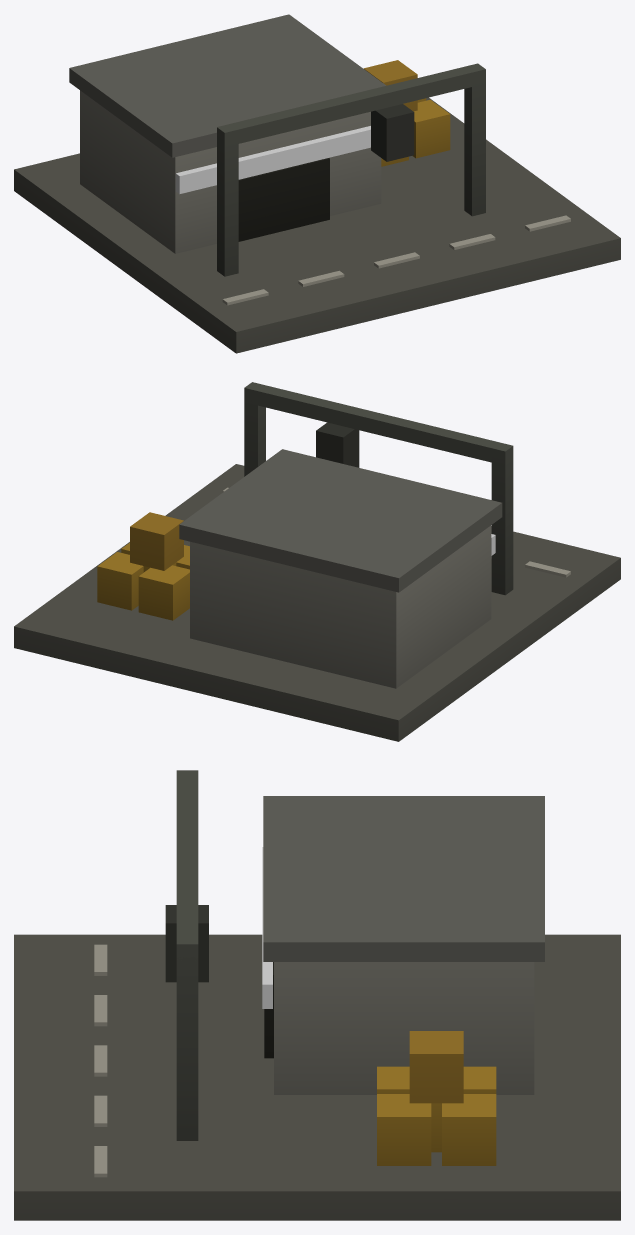
The model's file is m_depot_1adcab18.glb.
3 views of the same model, one above another, from view 1: azimuth 30°, elevation 25°; view 2: azimuth 150°, elevation 25°; view 3: azimuth 270°, elevation 25° (orthographic). The views are drawn at different scales.
Visible parts, largest first — view 1: mesh; view 2: mesh; view 3: mesh.
Part boxes in pixels (<box>): mesh: <box>14,14,620,353</box>; mesh: <box>14,382,620,741</box>; mesh: <box>14,770,620,1220</box>.
Bounding box in the file's own units: 56 × 23 × 56.
